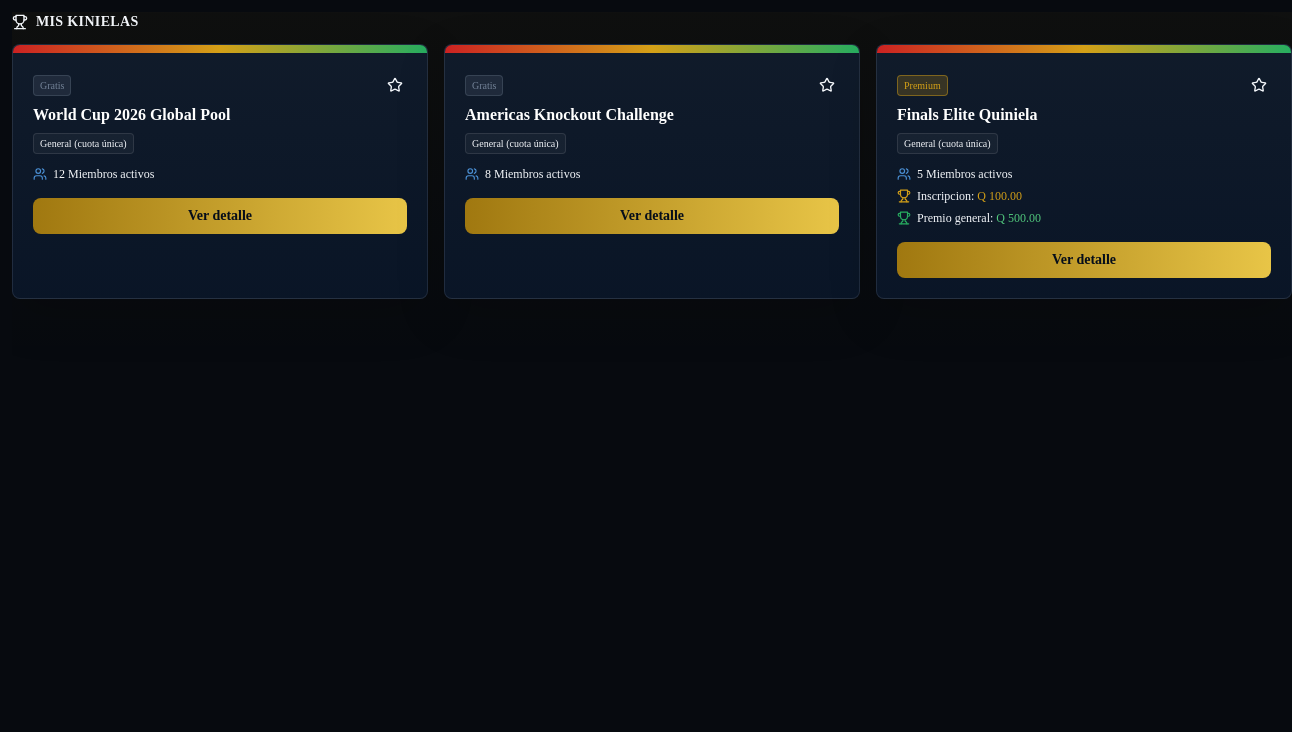
Test: FeaturedPoolsSection › star button toggles featured state
Click the 1st button titled "destacad": (395, 85) [383,73,407,97]
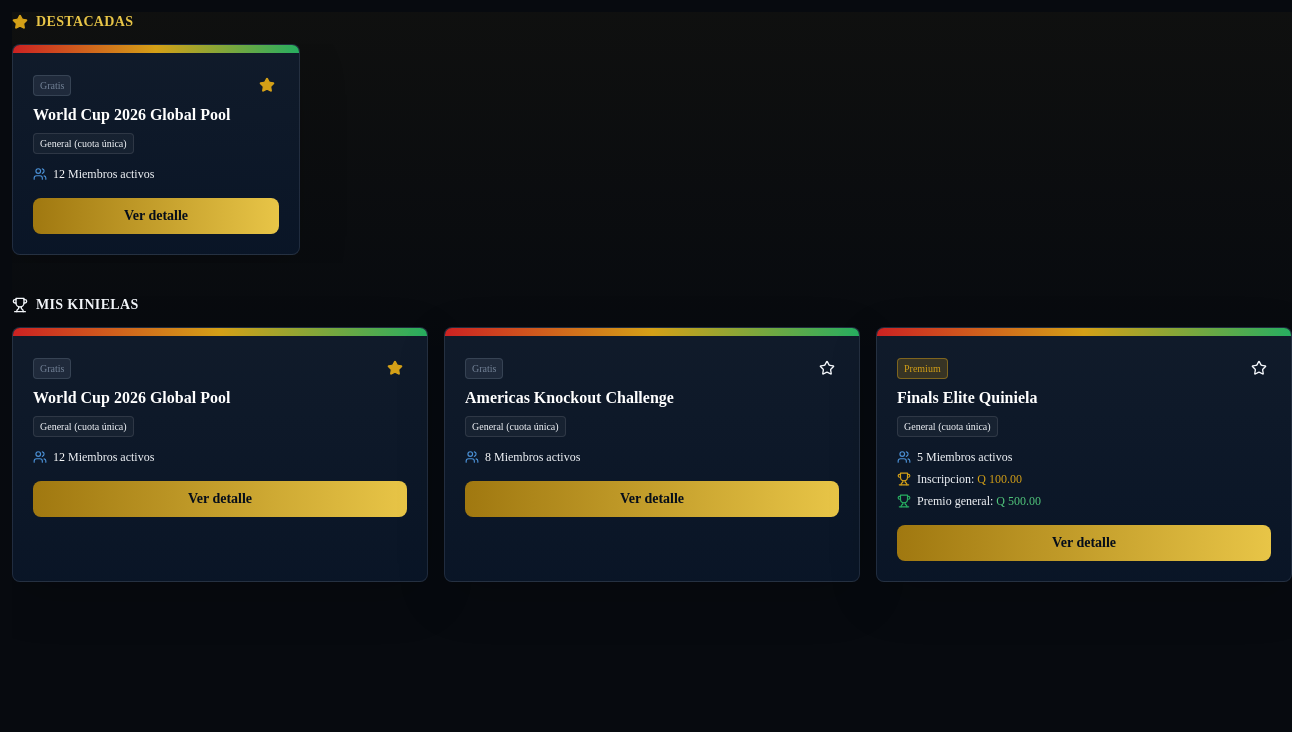
Now the heading "Destacadas" is shown, box [36,12,133,32]
